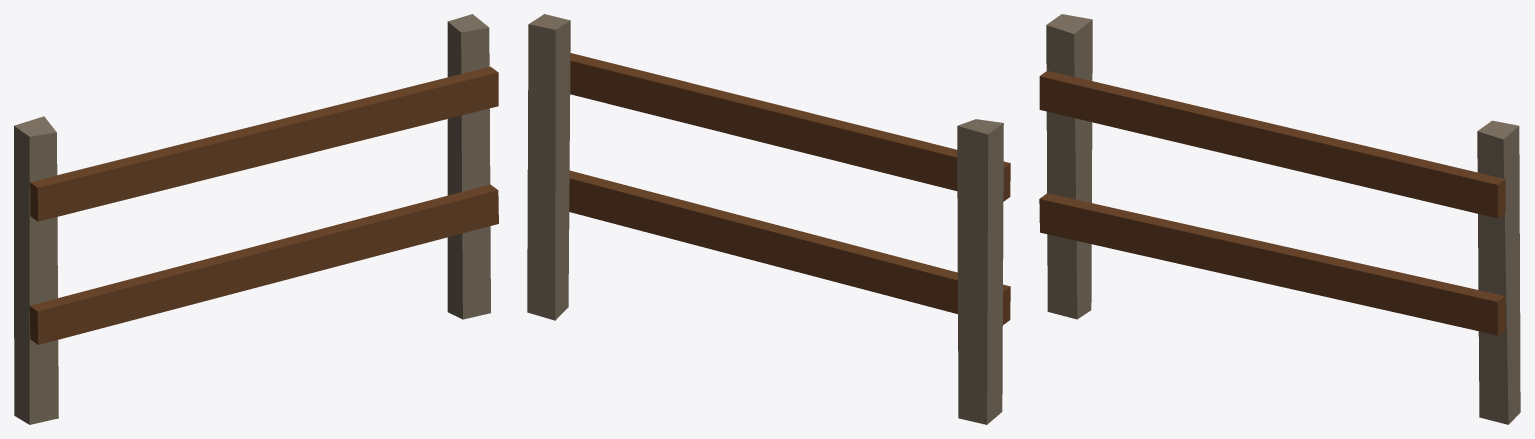
File: SM_Fence_Rail.obj
The picture shows the model from 3 angles, left to right: view 1: azimuth 30°, elevation 25°; view 2: azimuth 150°, elevation 25°; view 3: azimuth 330°, elevation 25°; orthographic projection.
Visible parts, largest first — view 1: SM_Fence_Rail; view 2: SM_Fence_Rail; view 3: SM_Fence_Rail.
Boxes of the visible parts, <box> form: SM_Fence_Rail: <box>14,14,498,424</box>; SM_Fence_Rail: <box>527,14,1010,424</box>; SM_Fence_Rail: <box>1039,14,1520,424</box>.
Size of the model in its own units: 2.01 by 1.22 by 0.1824.
